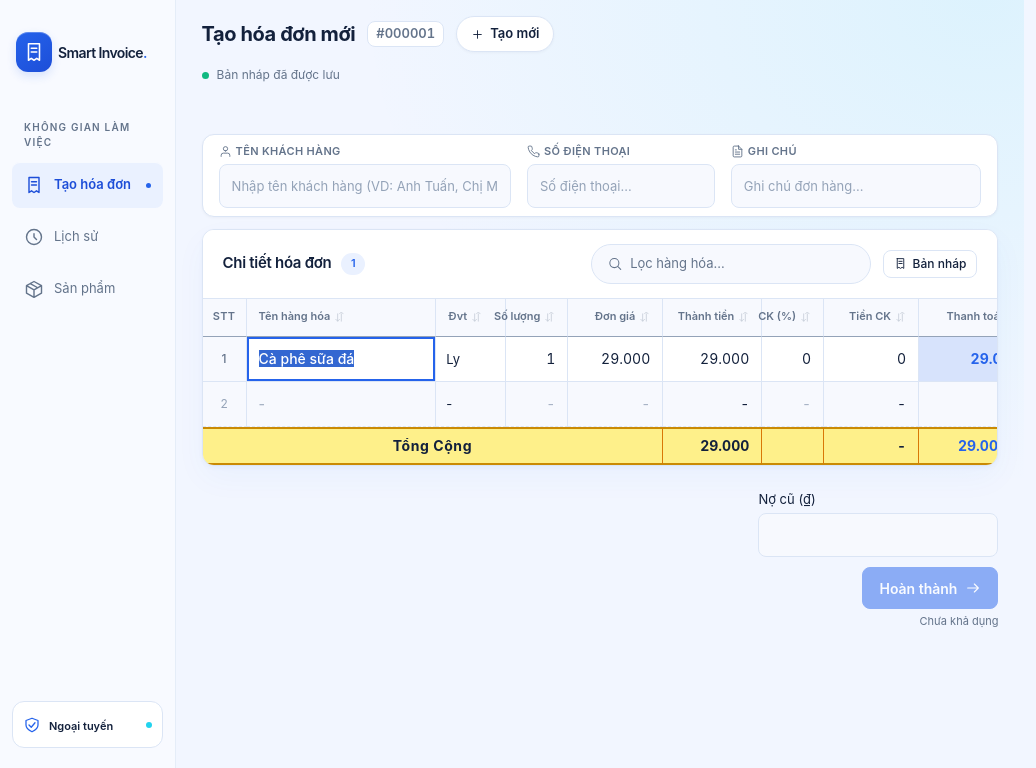
it: Invoice spreadsheet › rejects invalid quantity  without saving
expect the text "#000001" is shown: met, box [367,21,444,47]
Clear the number field named "Số lượng dòng 1" at (537,358), box [506,336,567,380]
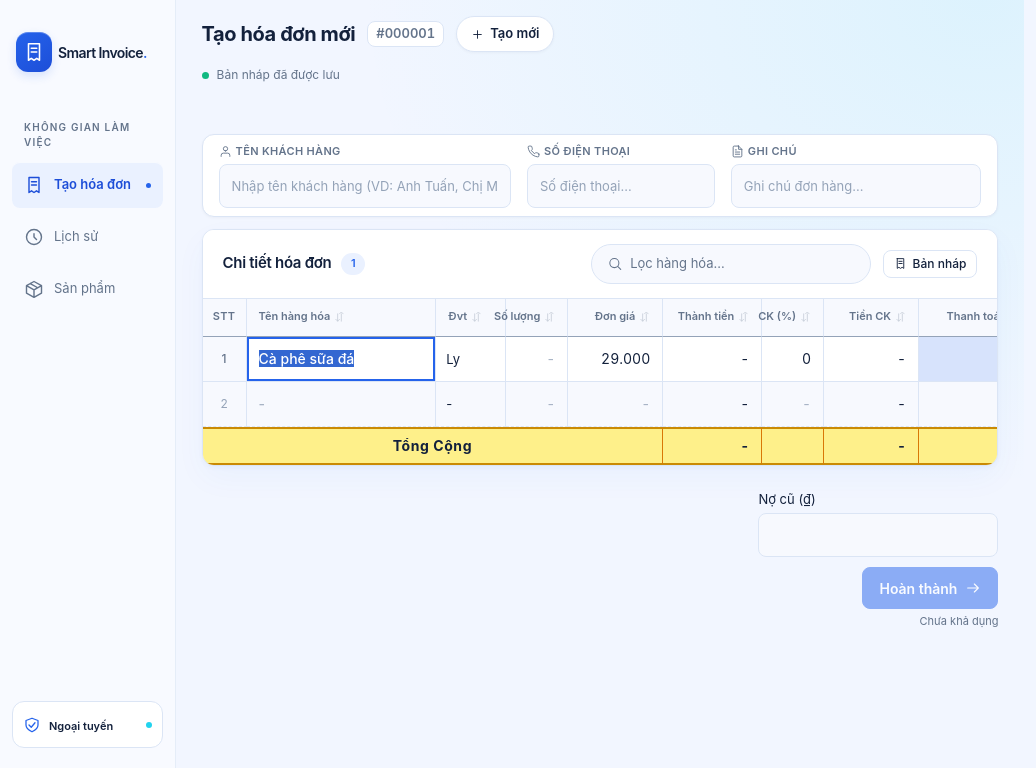
Leave the number field named "Số lượng dòng 1", box [506,336,567,380]
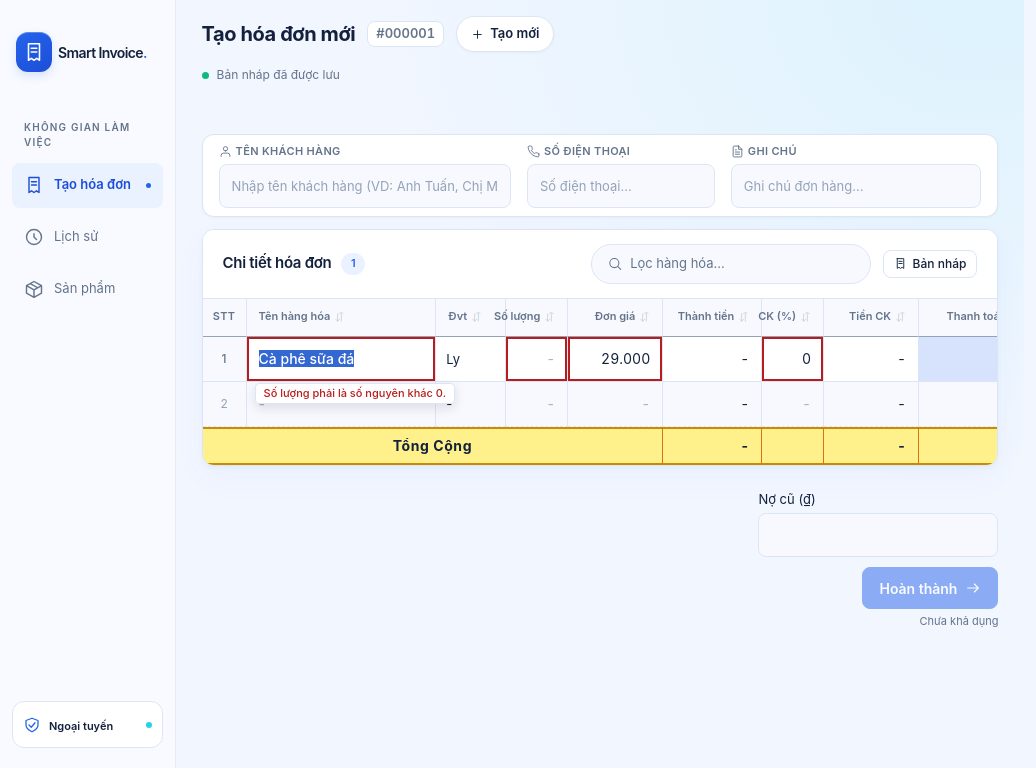
expect the message "Số lượng phải là số nguyên khác 0." is shown: met, box [255,382,455,404]
